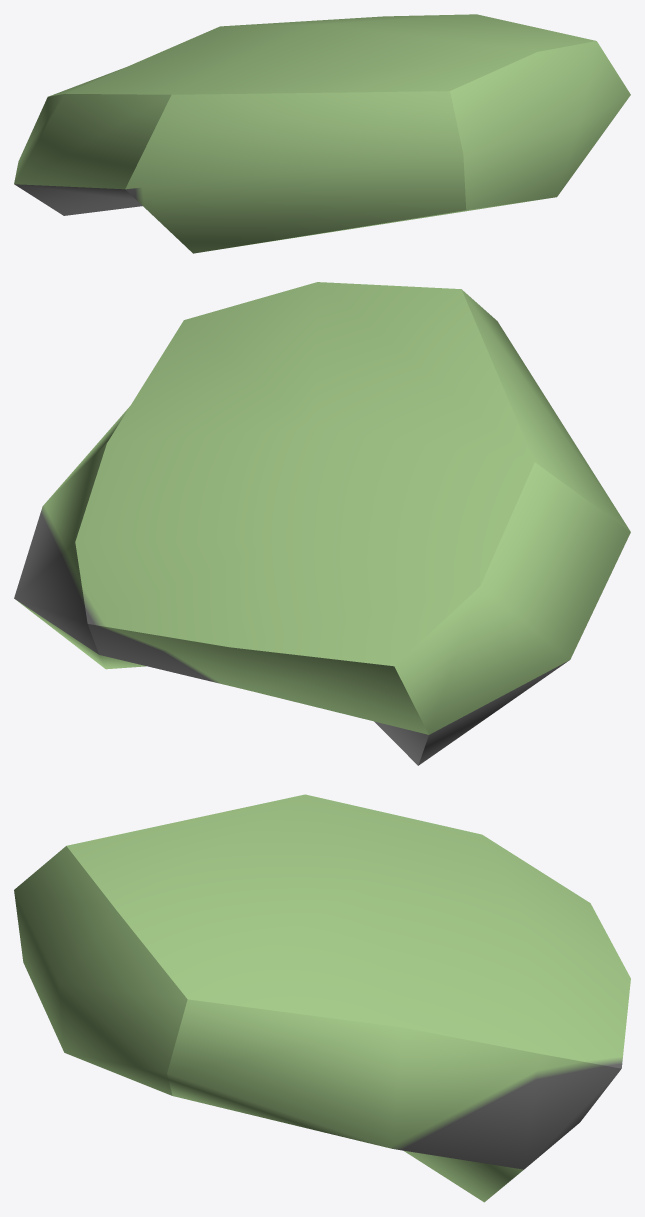
Rendered from OBJ_Rock_B_003.fbx.
The picture shows the model from 3 angles, top to bottom: view 1: azimuth 30°, elevation 25°; view 2: azimuth 150°, elevation 25°; view 3: azimuth 270°, elevation 25°; orthographic projection. The views are drawn at different scales.
Parts seen in each view (by area): view 1: Rock_B_003; view 2: Rock_B_003; view 3: Rock_B_003.
Part boxes in pixels (x1,y1,x2,y2): Rock_B_003: (14, 14, 630, 253); Rock_B_003: (14, 282, 630, 765); Rock_B_003: (14, 794, 630, 1202).
Bounding box in the file's own units: 1782 × 829 × 1662.
